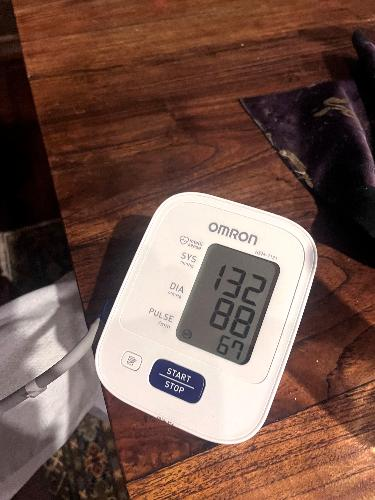bpm: (169, 235, 288, 371)
